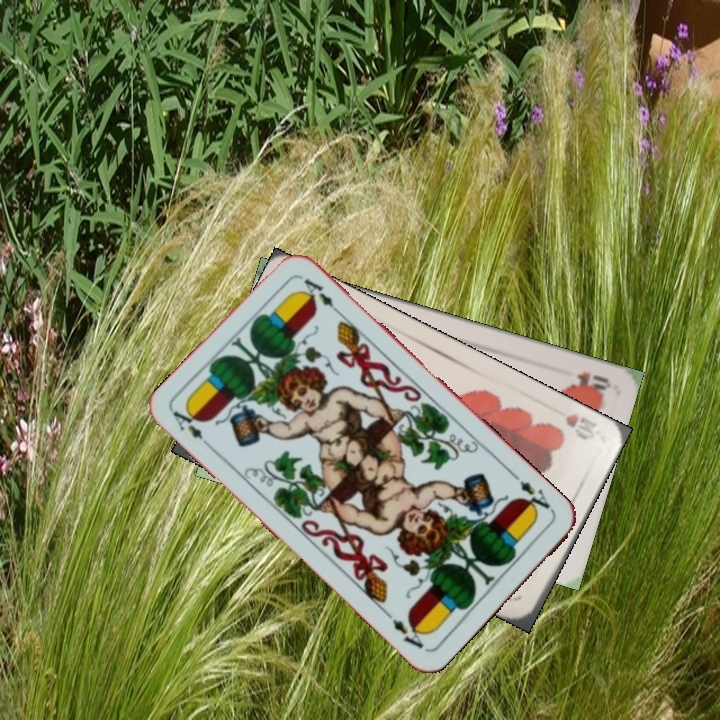EA: (168, 404, 216, 452), (514, 476, 556, 517)
H10: (561, 408, 600, 443)
HO: (567, 367, 613, 396)
